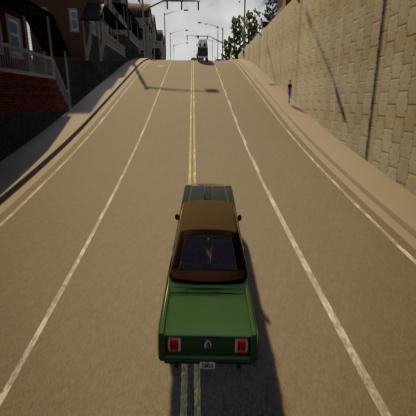Cars: (150, 122, 267, 414), (195, 24, 221, 80)
Pedestrian: (286, 68, 296, 122)
